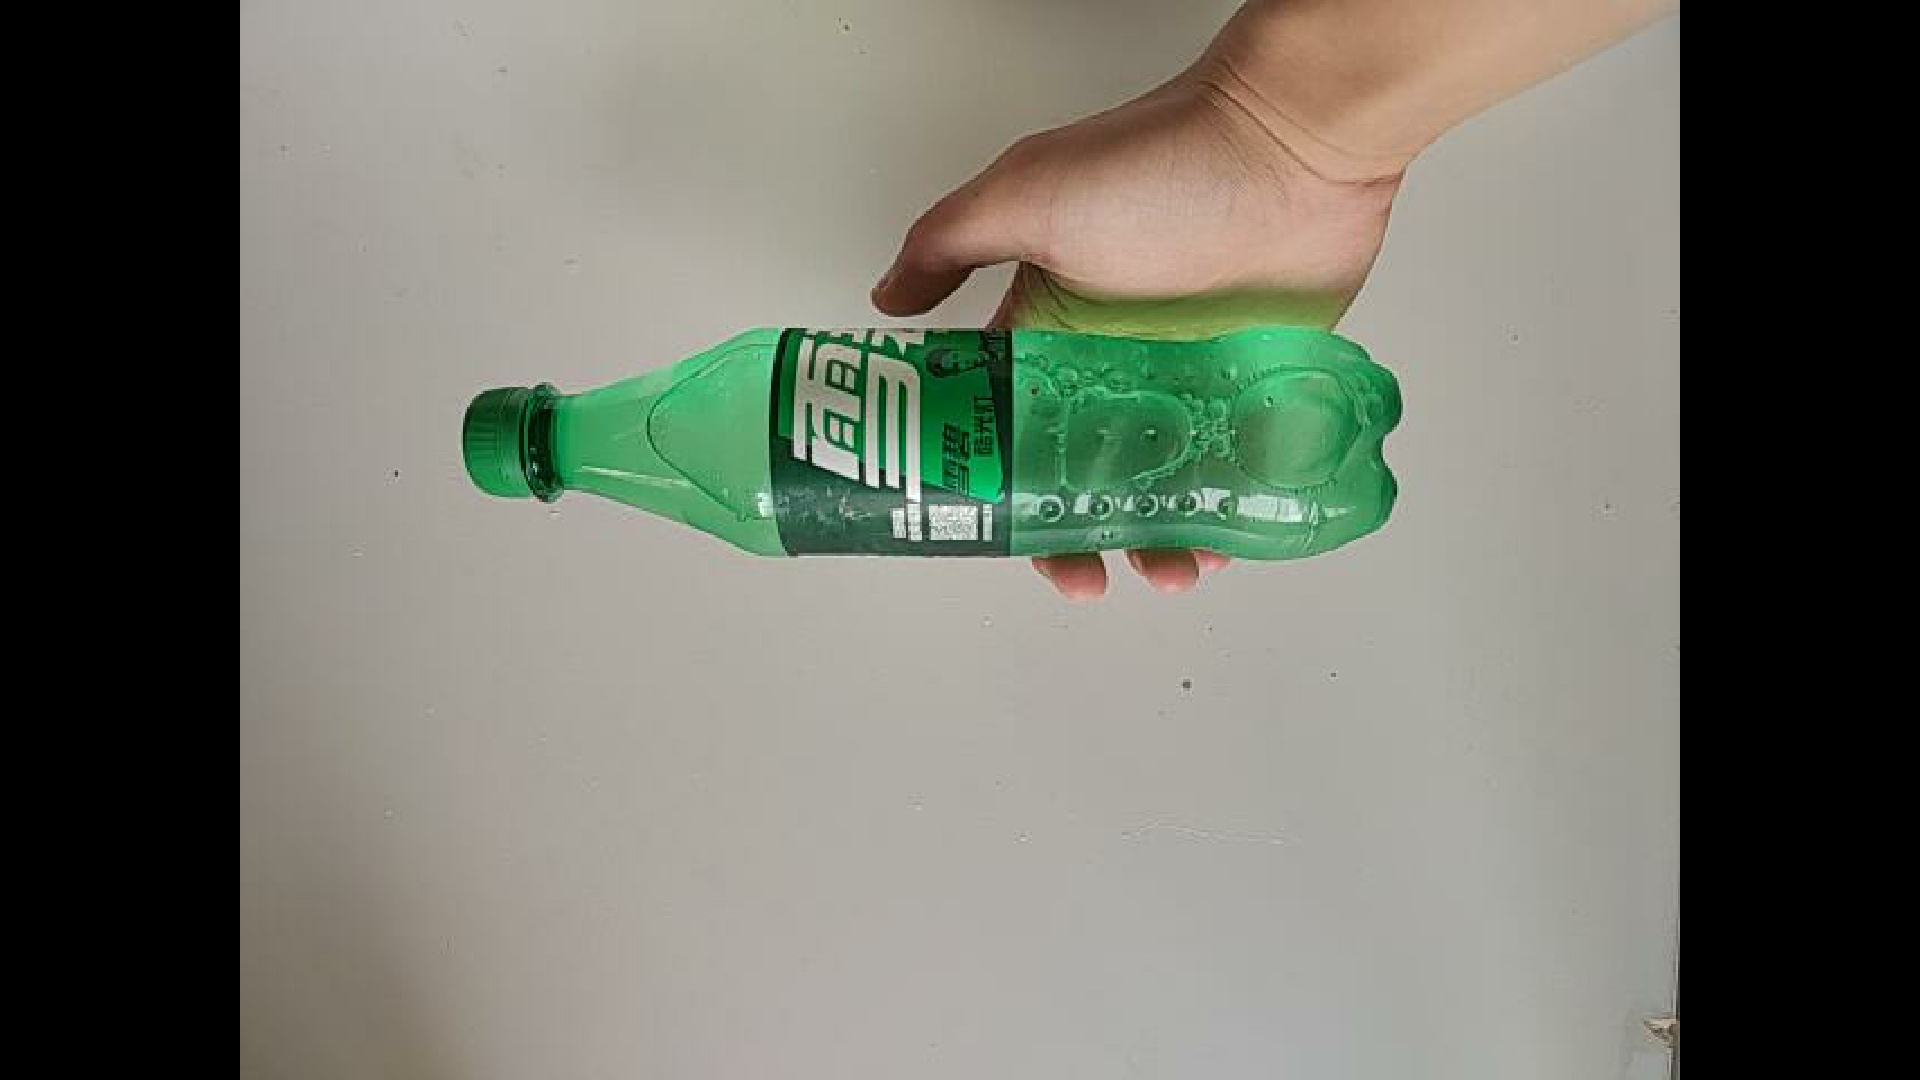sprite: (462, 323, 1402, 563)
